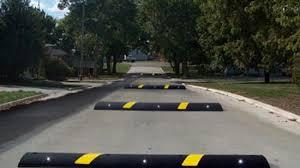Bump: (10, 152, 270, 168), (92, 100, 226, 112), (124, 82, 186, 94), (129, 72, 168, 77)
